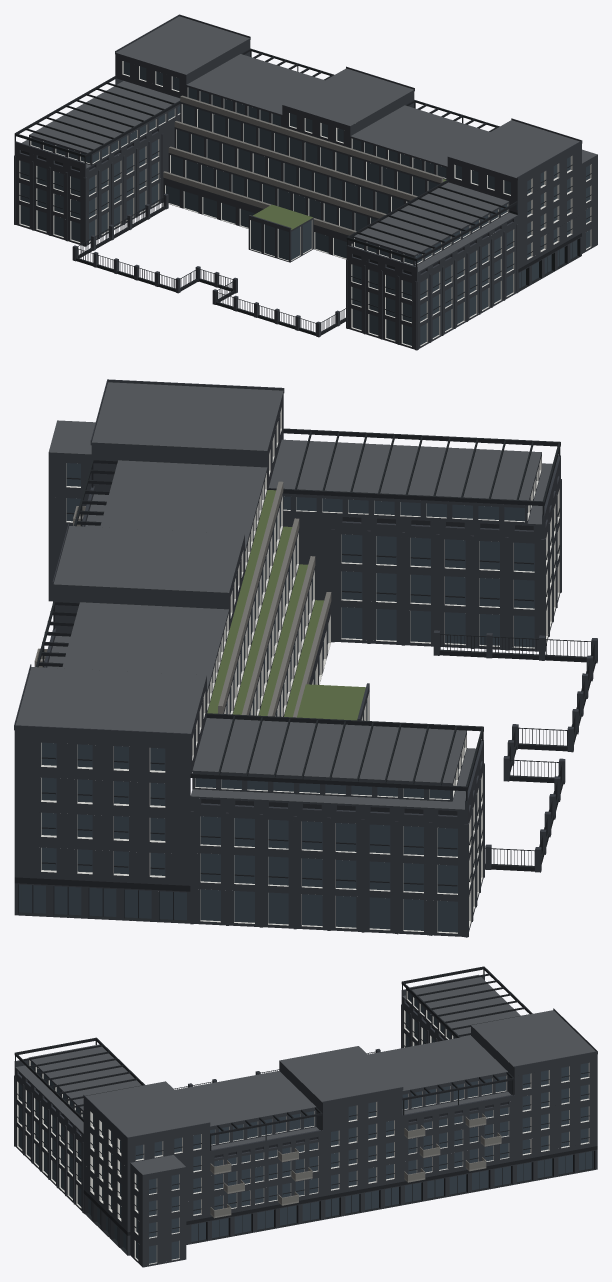
Rendered from de-valerius.glb.
The picture shows the model from 3 angles, top to bottom: view 1: azimuth 30°, elevation 25°; view 2: azimuth 150°, elevation 25°; view 3: azimuth 270°, elevation 25°; orthographic projection. The views are drawn at different scales.
Visible parts, largest first — view 1: de-valerius; view 2: de-valerius; view 3: de-valerius.
Boxes of the visible parts, left/top/right/bottom form: de-valerius: left=14, top=14, right=597, bottom=350; de-valerius: left=14, top=379, right=597, bottom=937; de-valerius: left=14, top=966, right=597, bottom=1267.
Bounding box in the file's own units: 73.81 × 19.55 × 87.45.
